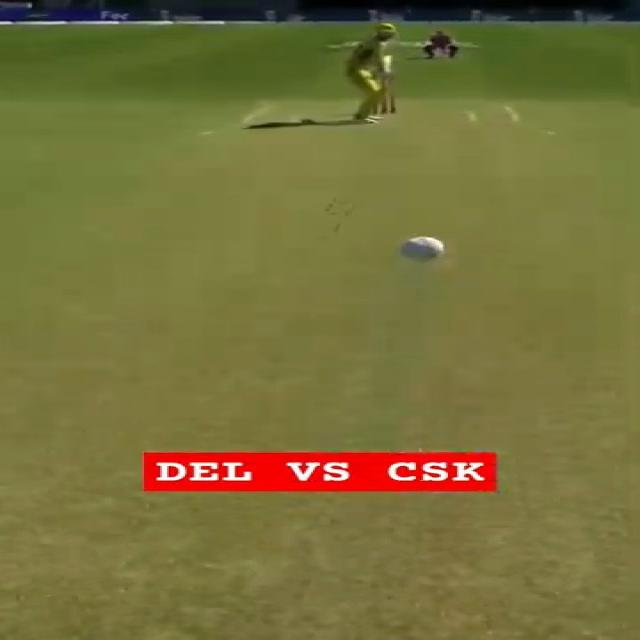ball: (396, 235, 452, 268)
